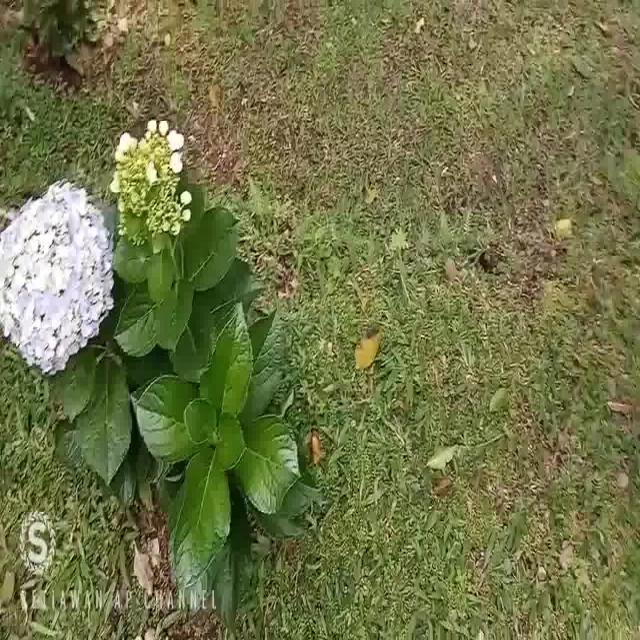Flower: (1, 176, 115, 370)
